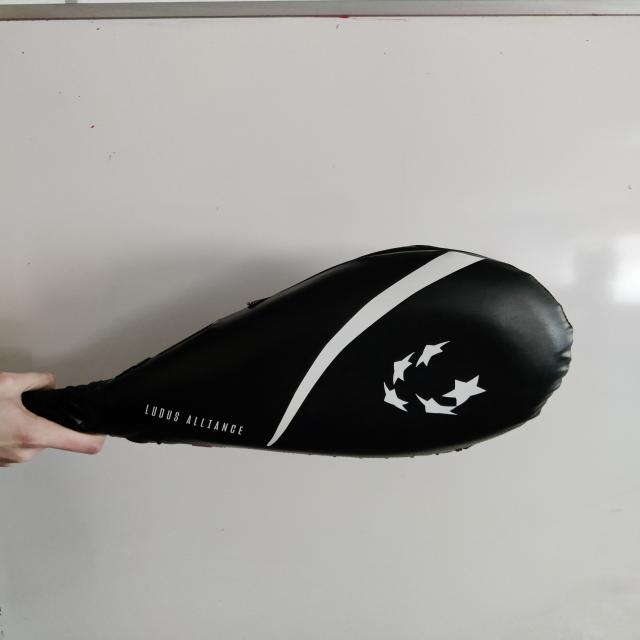paddle: (26, 236, 584, 462)
